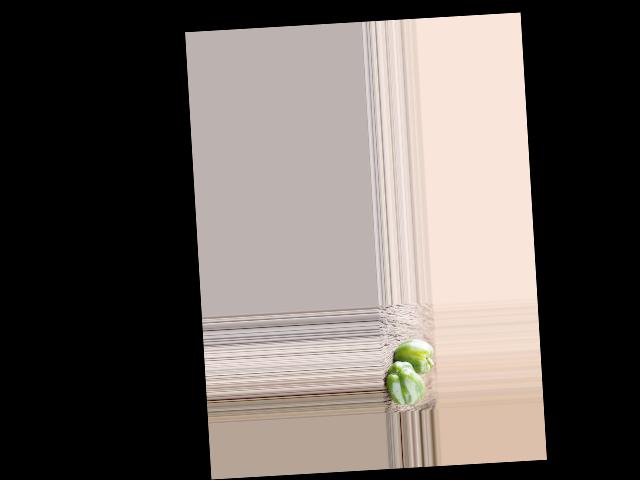bell_pepper: (386, 358, 427, 405)
